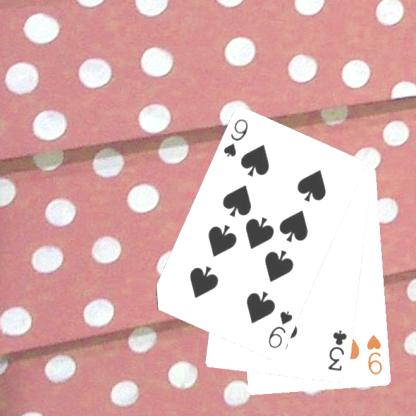3C: (325, 327, 349, 373)
9H: (364, 332, 384, 377)
9S: (220, 116, 250, 159), (265, 308, 295, 350)
